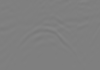hyperbola: (14, 23, 82, 60)
